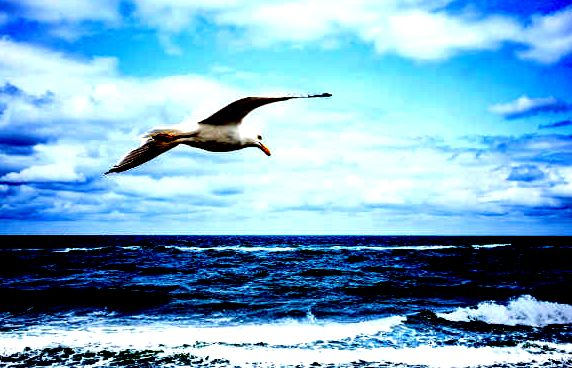Bird: (95, 90, 335, 181)
